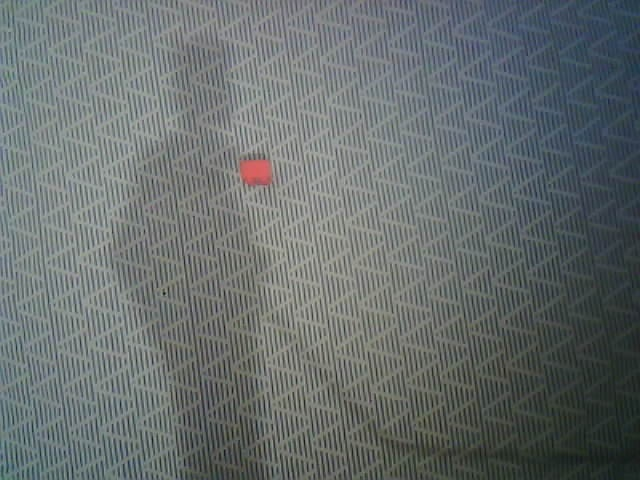lego: (238, 159, 273, 185)
